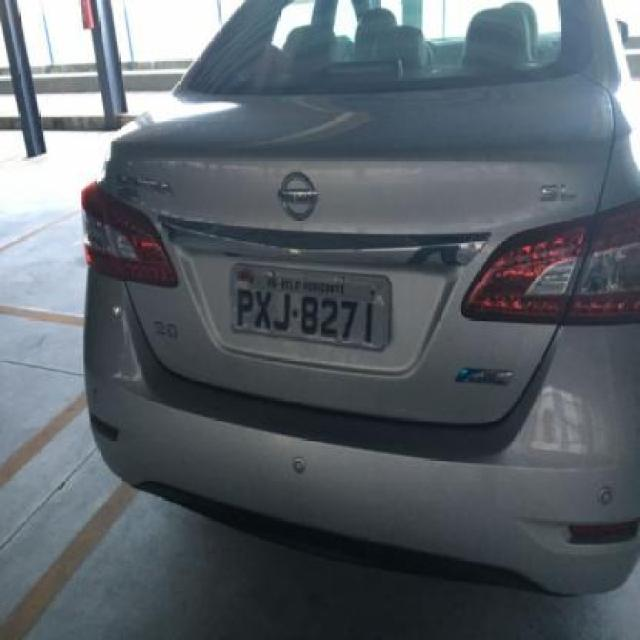old_plate: (227, 258, 398, 354)
